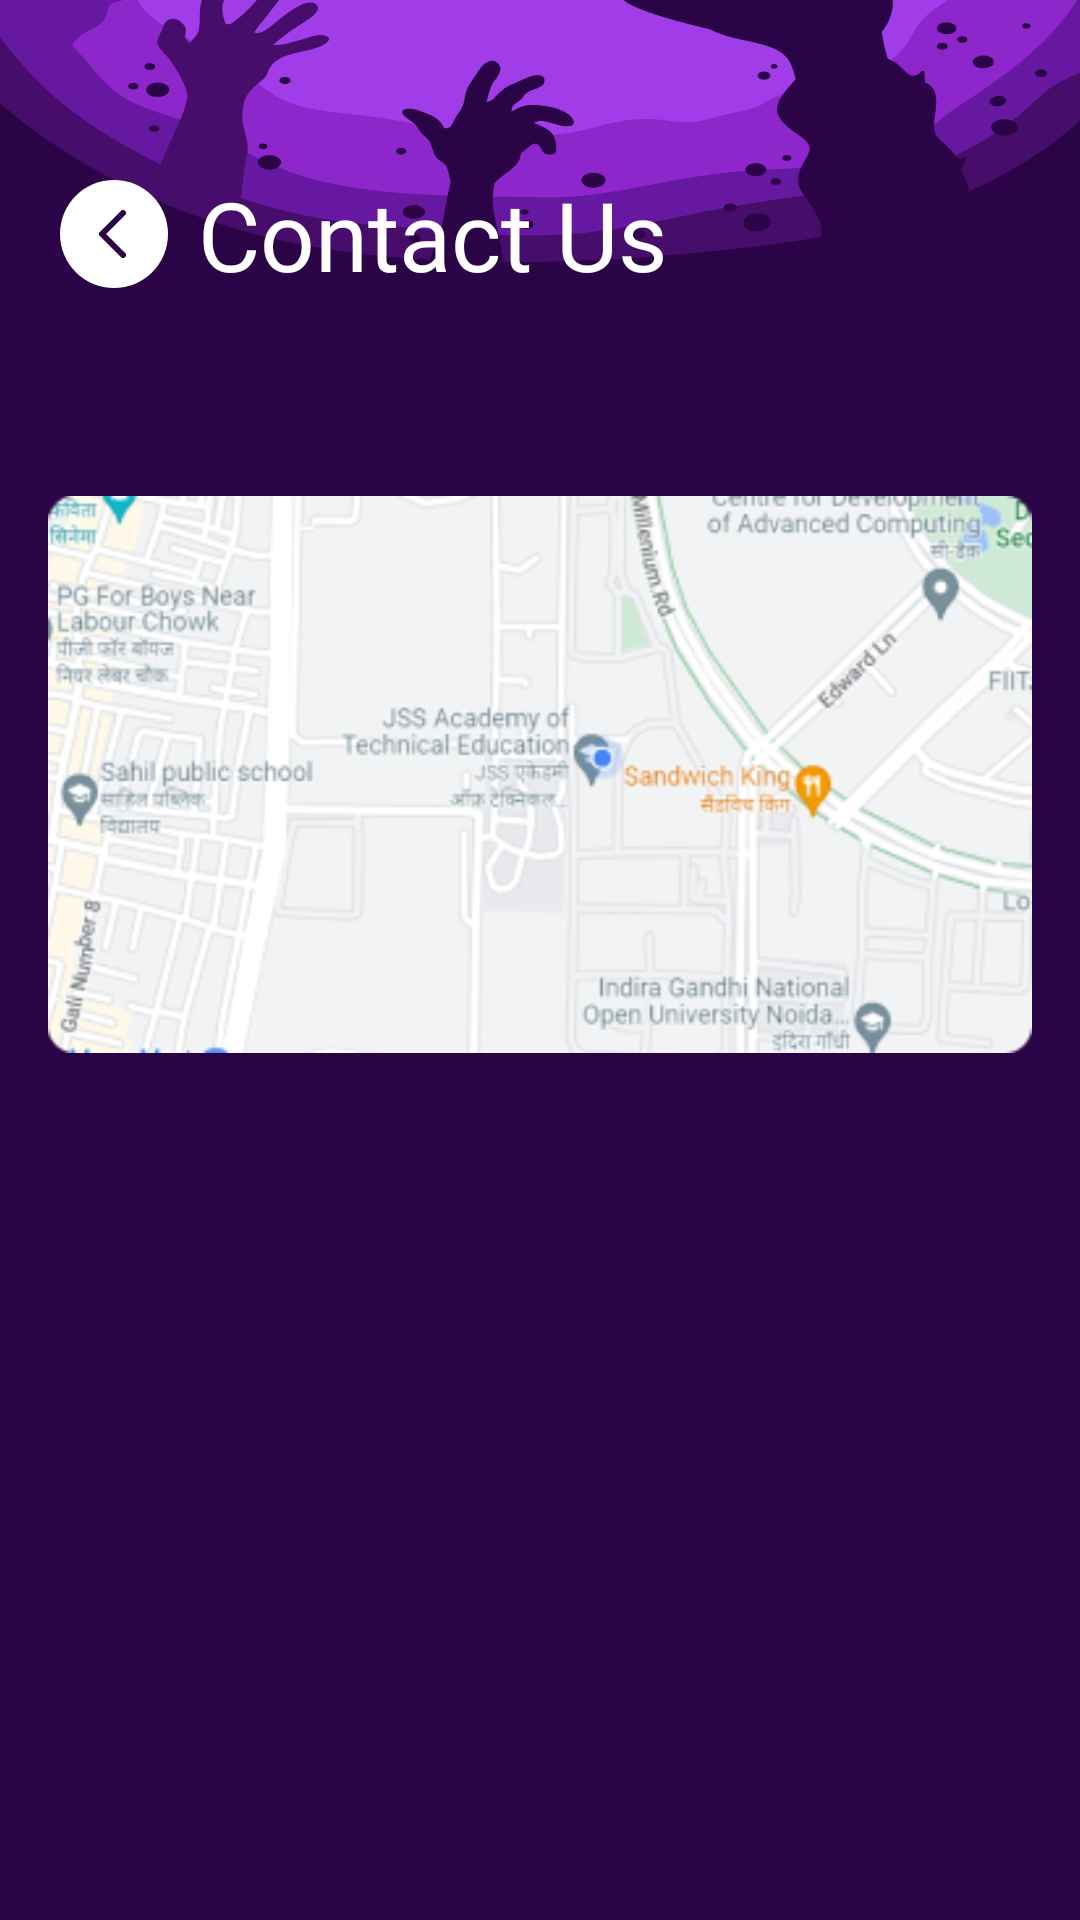

Icons on this 1080 × 1920 Android screen, each with the point to tap as (x=x, y=y):
back: (x=114, y=234)
